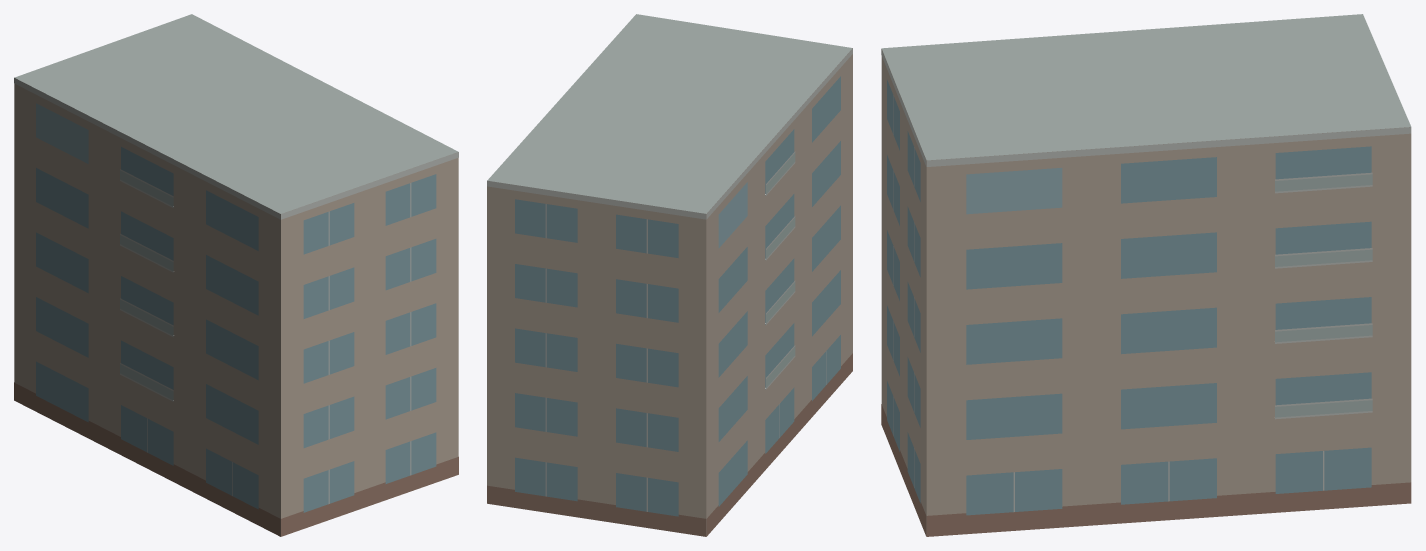
The model's file is survey-upis-32763197.glb.
3 views of the same model, side by side, from view 1: azimuth 30°, elevation 25°; view 2: azimuth 150°, elevation 25°; view 3: azimuth 270°, elevation 25° (orthographic). The views are drawn at different scales.
Visible parts, largest first — view 1: survey-upis-32763197.tmp; view 2: survey-upis-32763197.tmp; view 3: survey-upis-32763197.tmp.
Boxes of the visible parts, x1,y1,x2,y2 form: survey-upis-32763197.tmp: (14, 14, 458, 536); survey-upis-32763197.tmp: (487, 14, 852, 536); survey-upis-32763197.tmp: (881, 14, 1411, 536).
Size of the model in its own units: 11.44 by 13.7 by 17.49.
